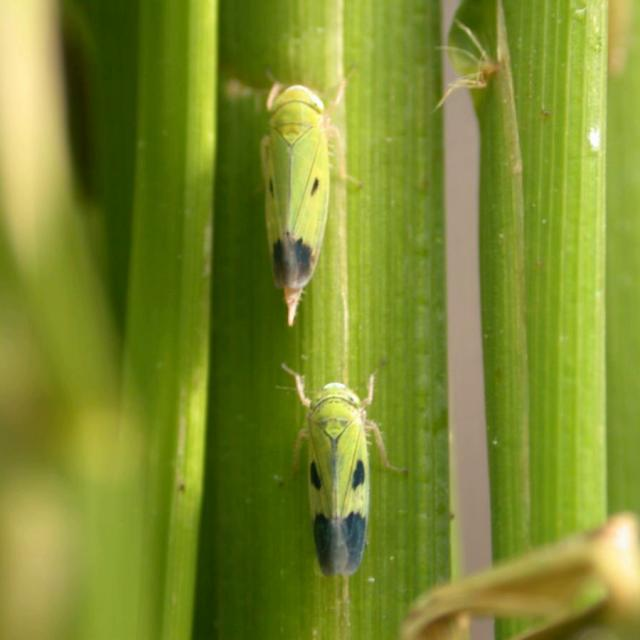Yechan: (266, 356, 428, 592), (246, 60, 362, 336)
